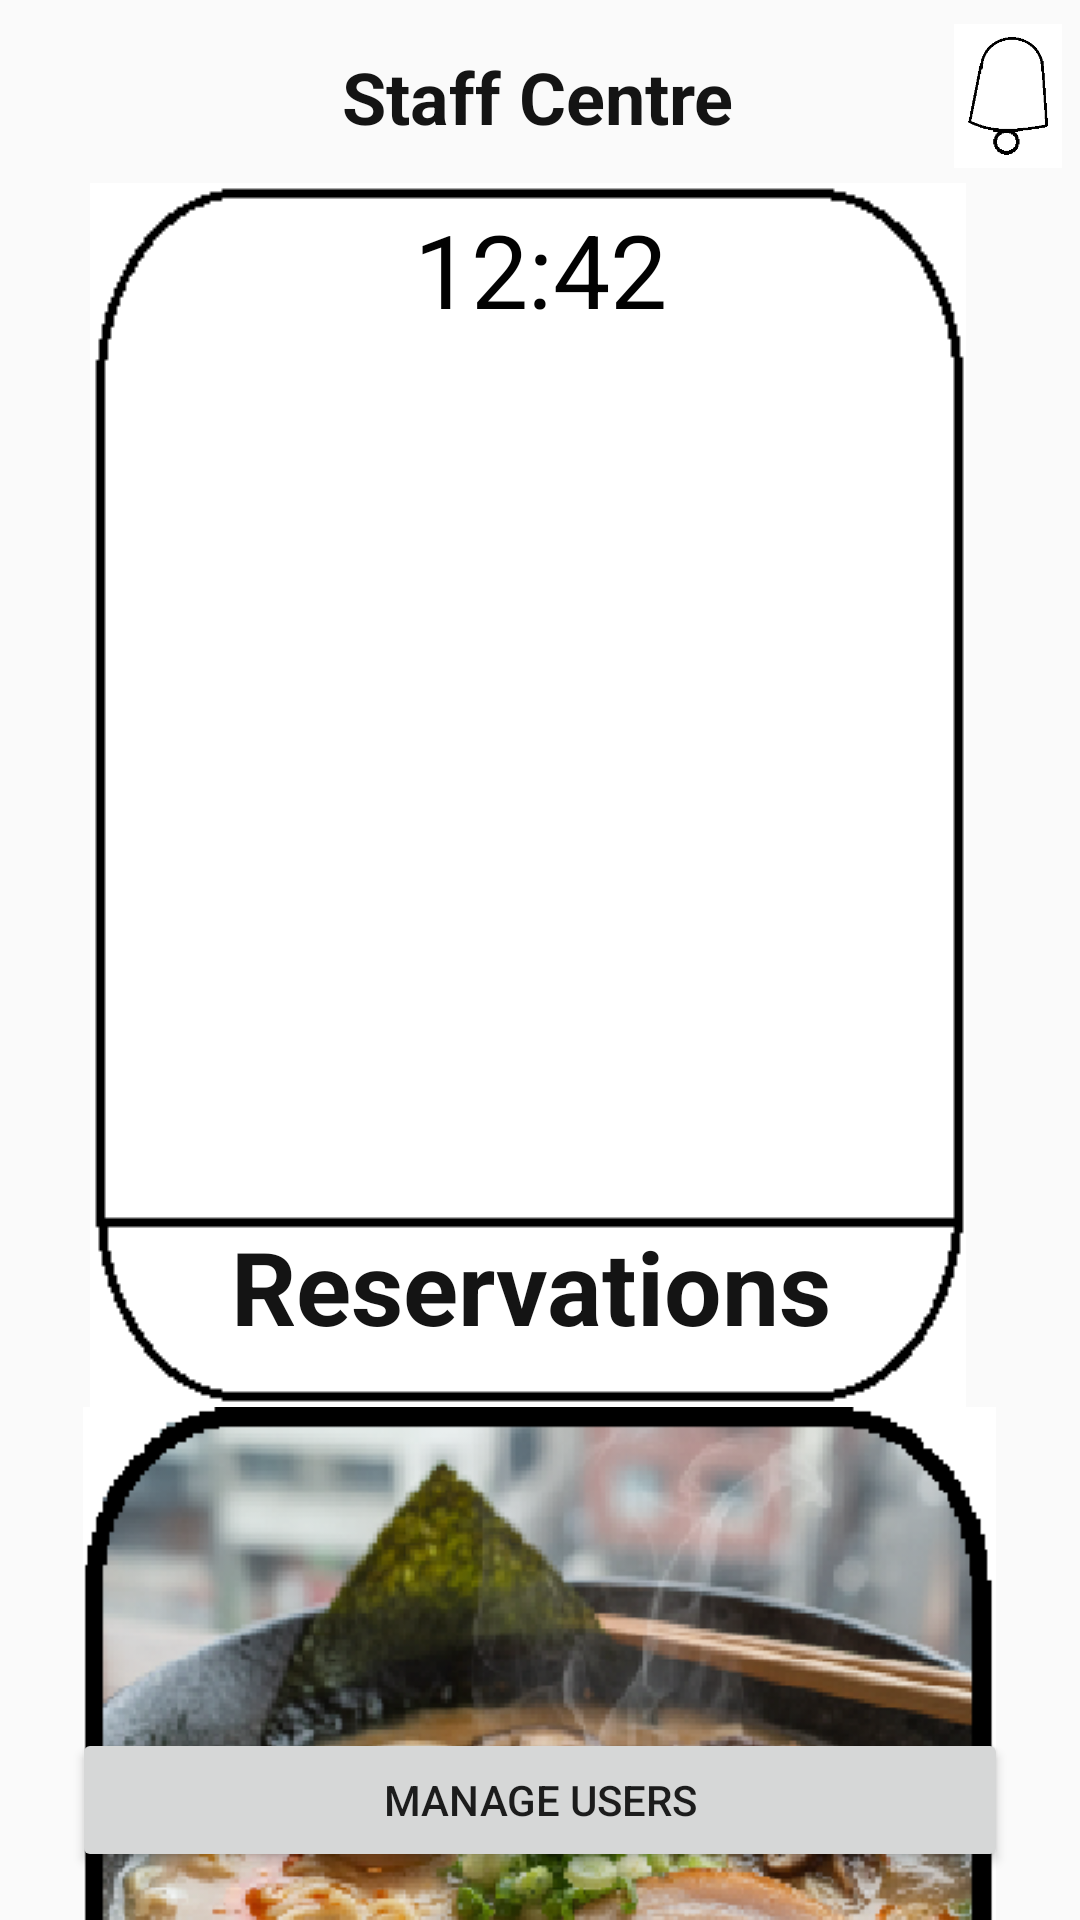

Locate icon controls on the screen. Image size 1080w x 1920h, boxes as (x1, y1, x2, y2).
Notifications: (968, 37, 1048, 155)
